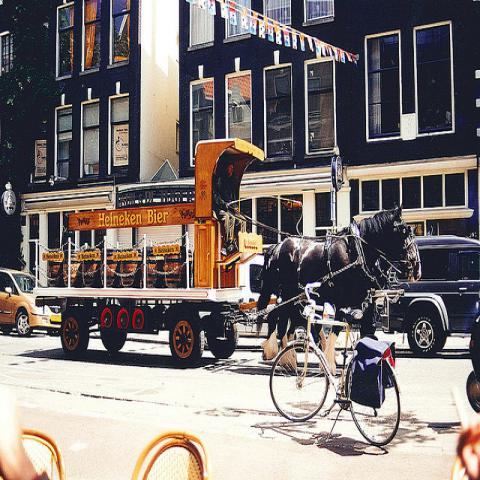car: (378, 234, 479, 359), (1, 266, 62, 336)
